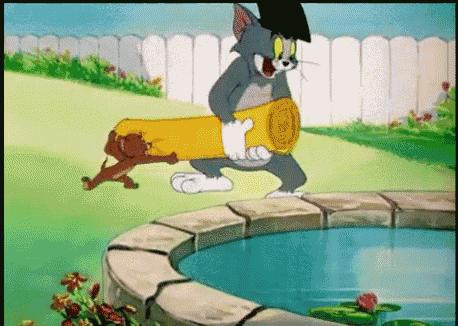jerry: (80, 129, 179, 191)
